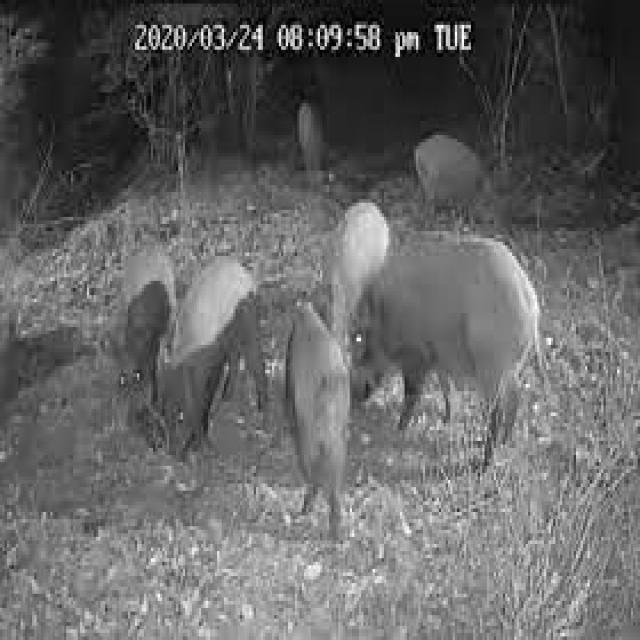boar: (322, 215, 554, 474), (155, 242, 252, 473), (99, 200, 176, 417)
